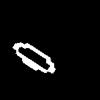chain: (13, 43, 54, 72)
